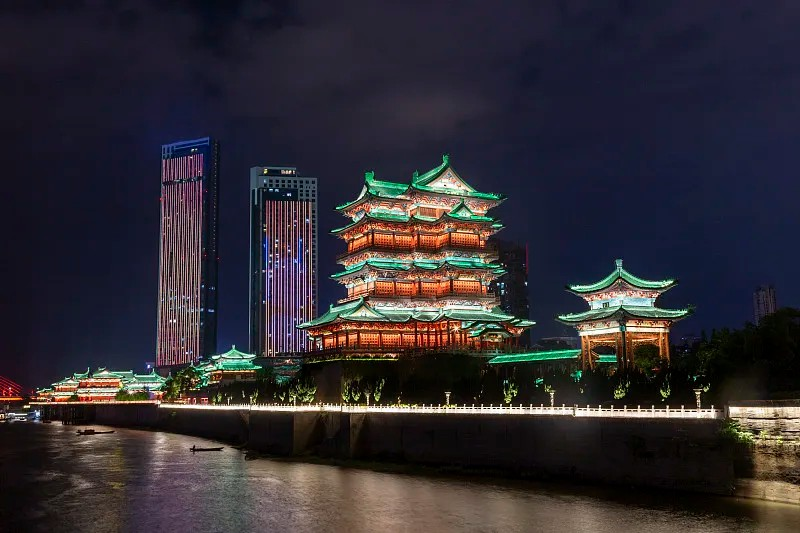Teng: (298, 155, 538, 352)
